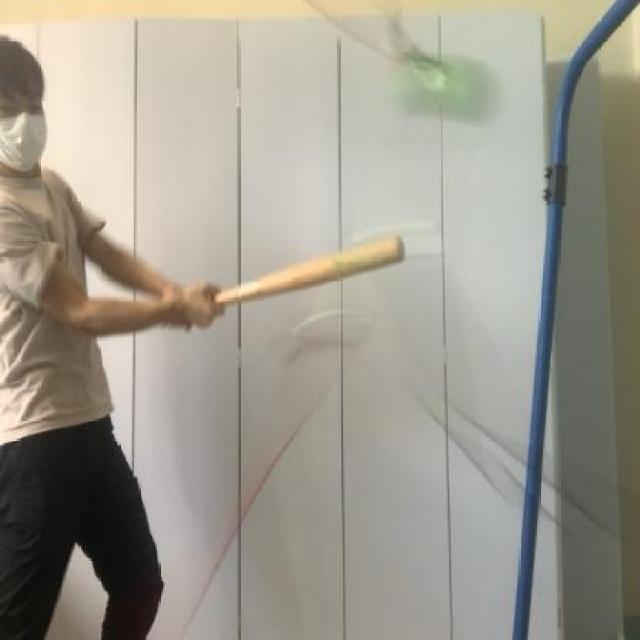baseball: (382, 38, 496, 134)
